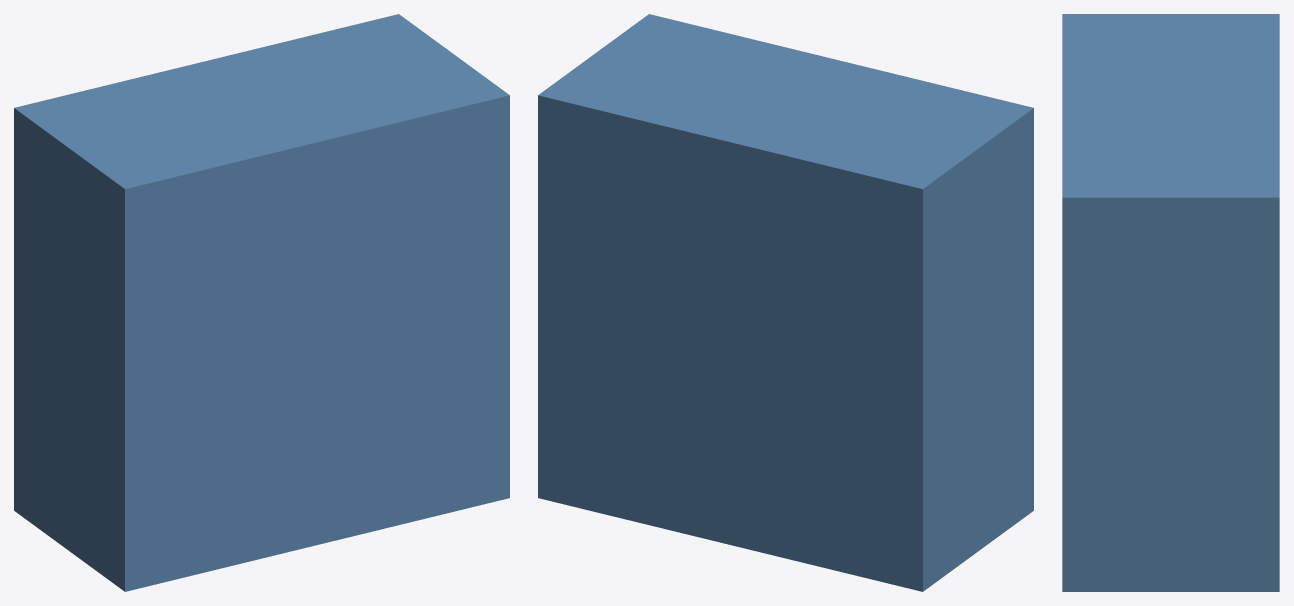
The model's file is Spawn_VerticalSlab.glb.
The picture shows the model from 3 angles, left to right: view 1: azimuth 30°, elevation 25°; view 2: azimuth 150°, elevation 25°; view 3: azimuth 270°, elevation 25°; orthographic projection. The views are drawn at different scales.
Parts seen in each view (by area): view 1: Spawn_VerticalSlab_body; view 2: Spawn_VerticalSlab_body; view 3: Spawn_VerticalSlab_body.
Boxes of the visible parts, x1,y1,x2,y2 form: Spawn_VerticalSlab_body: (14, 14, 509, 591); Spawn_VerticalSlab_body: (538, 14, 1033, 591); Spawn_VerticalSlab_body: (1062, 14, 1279, 591).
Bounding box in the file's own units: 1 × 1 × 0.5.
